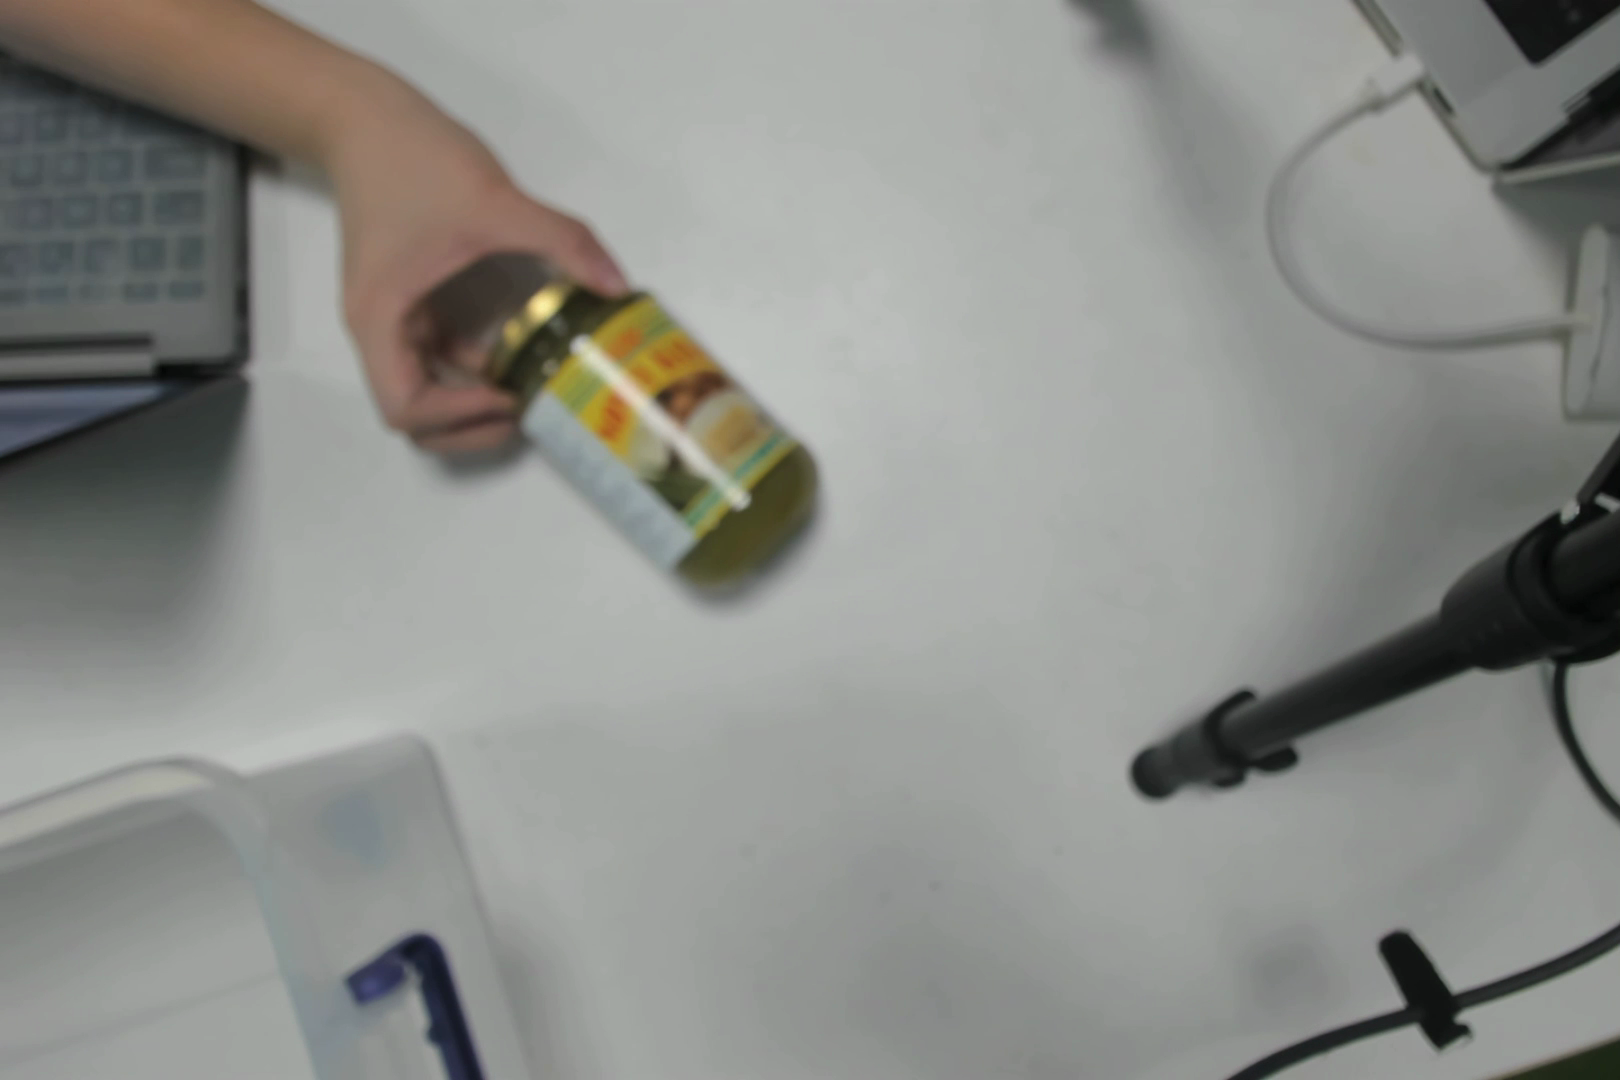Kaya_400-499g_Halal_NonHealthy: (526, 295, 809, 583)
